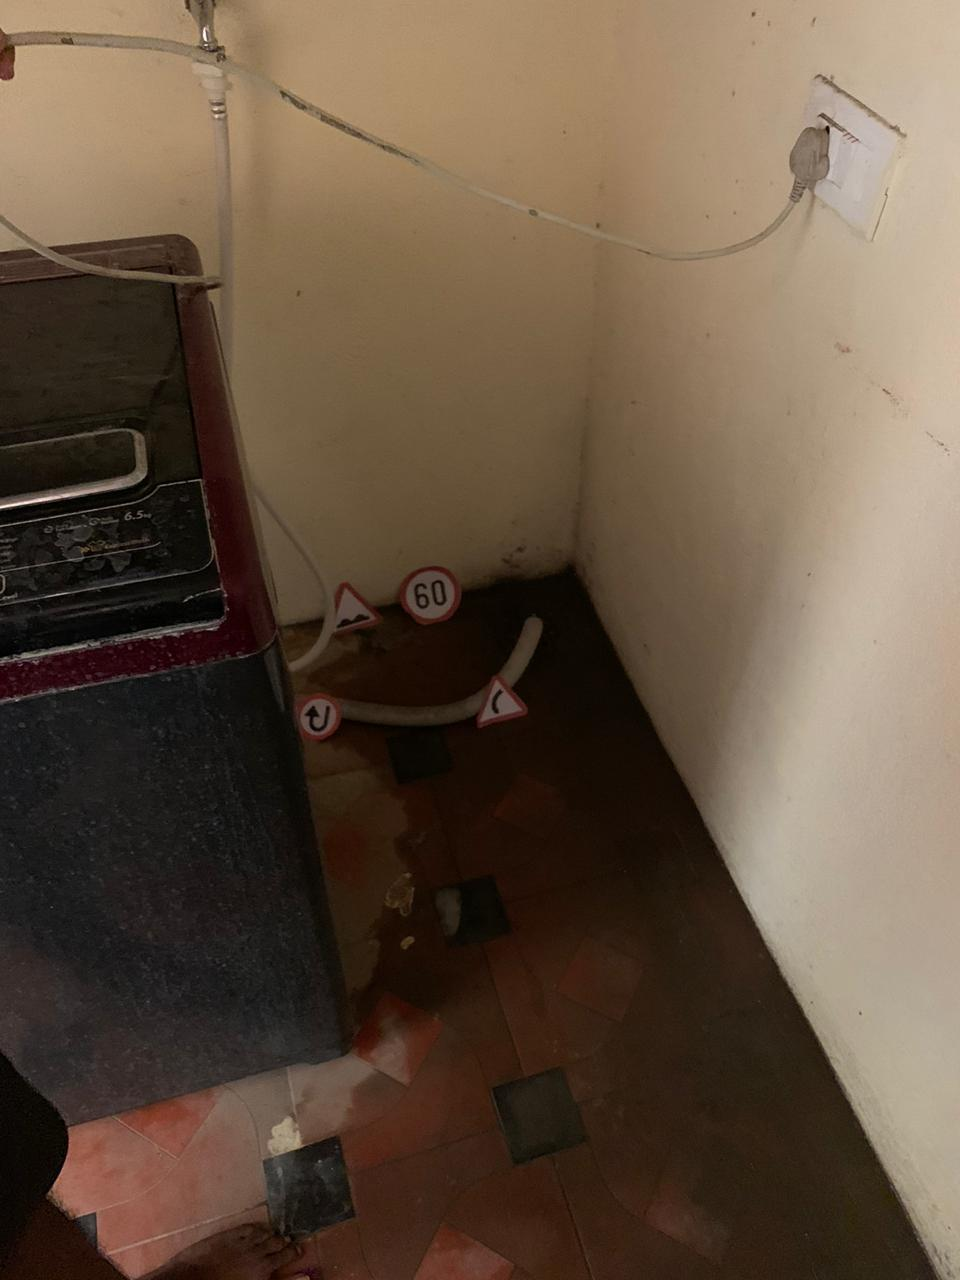LEFT CURVE: (463, 667, 545, 749)
SPEED LIMIT (60 KM/H): (391, 553, 482, 648)
U-TURN: (295, 679, 341, 761)
UNEVEN ROAD: (306, 571, 391, 664)
